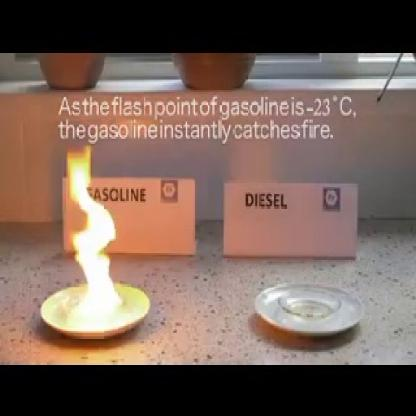fire: (49, 141, 130, 332)
